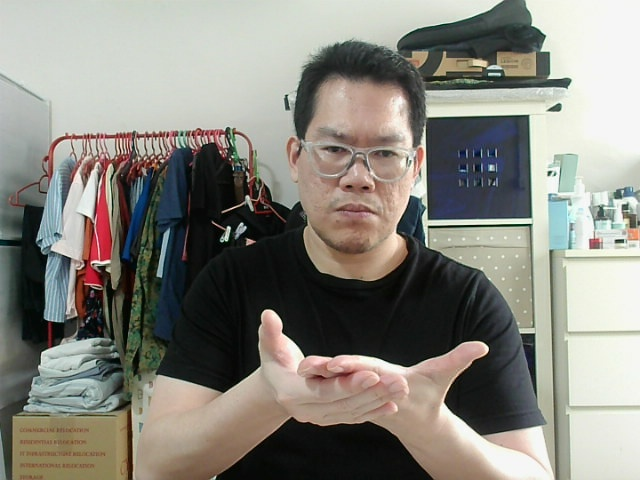good: (266, 318, 391, 424)
